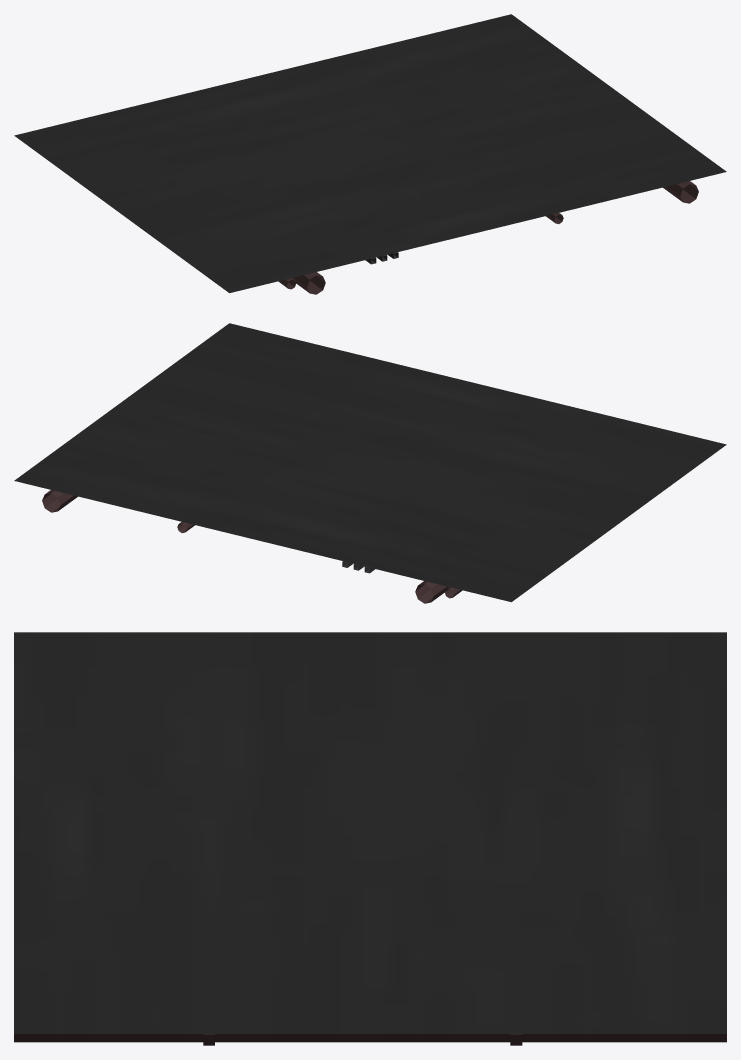
The model's file is SW_ENV_RailTunnelCeiling_Single_03m_FF.fbx.
3 renders of one model, top to bottom at view 1: azimuth 30°, elevation 25°; view 2: azimuth 150°, elevation 25°; view 3: azimuth 270°, elevation 25°, orthographic. The views are drawn at different scales.
Visible parts, largest first — view 1: SW_ENV_RailTunnelCeiling_Single_03m_FF; view 2: SW_ENV_RailTunnelCeiling_Single_03m_FF; view 3: SW_ENV_RailTunnelCeiling_Single_03m_FF.
Part boxes in pixels (x1=…): SW_ENV_RailTunnelCeiling_Single_03m_FF: x1=14, y1=14, x2=726, y2=294; SW_ENV_RailTunnelCeiling_Single_03m_FF: x1=14, y1=323, x2=726, y2=603; SW_ENV_RailTunnelCeiling_Single_03m_FF: x1=14, y1=632, x2=726, y2=1045.
Size of the model in its own units: 400 by 19 by 300.
